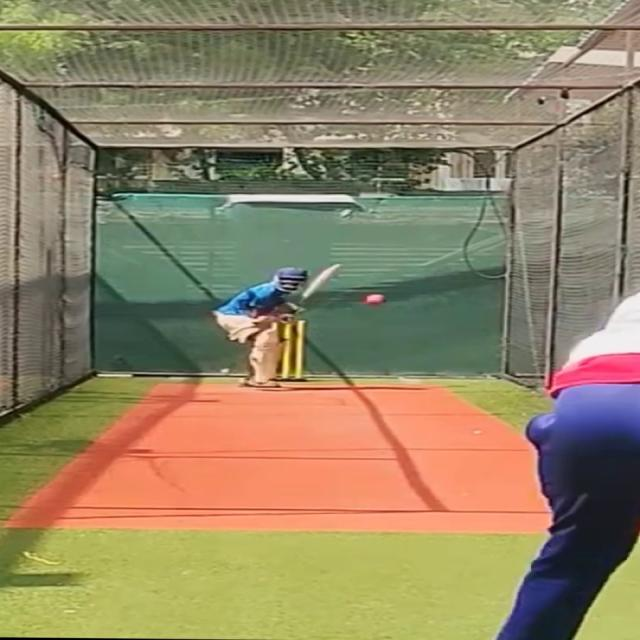ball: (365, 293, 389, 305)
stump: (281, 319, 312, 380)
